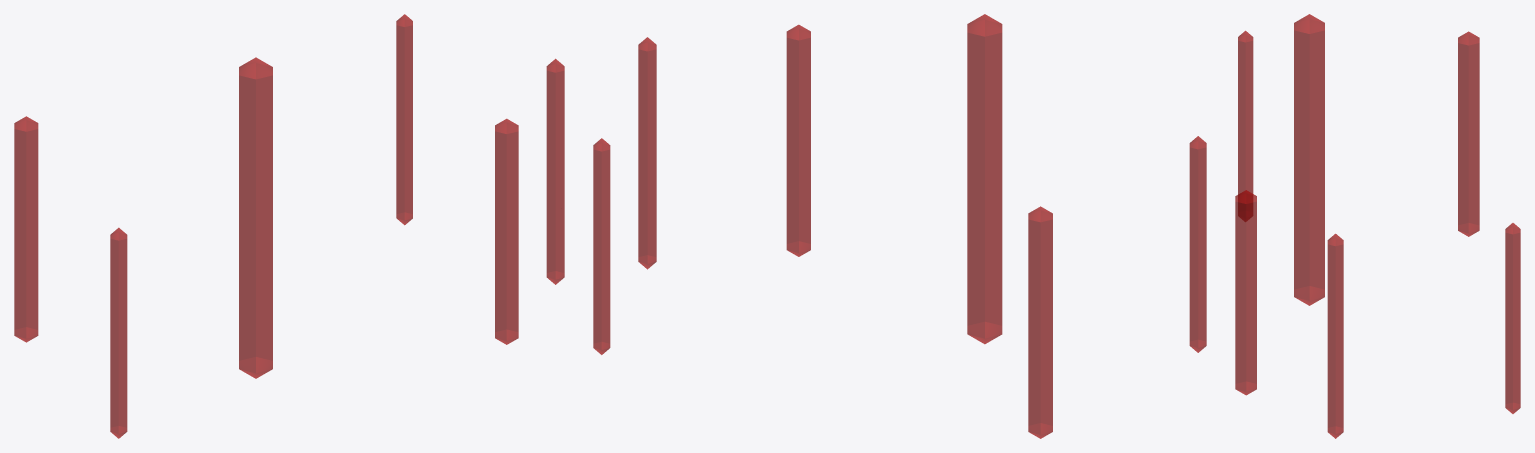
File: SM_Env_Tree_Cluster_03_Collision.fbx
3 renders of one model, left to right at view 1: azimuth 30°, elevation 25°; view 2: azimuth 150°, elevation 25°; view 3: azimuth 270°, elevation 25°, orthographic. The views are drawn at different scales.
Visible parts, largest first — view 1: SM_Env_Tree_Cluster_03_Collision; view 2: SM_Env_Tree_Cluster_03_Collision; view 3: SM_Env_Tree_Cluster_03_Collision.
Part boxes in pixels (x1=…): SM_Env_Tree_Cluster_03_Collision: x1=14, y1=14, x2=564, y2=438; SM_Env_Tree_Cluster_03_Collision: x1=593, y1=14, x2=1206, y2=438; SM_Env_Tree_Cluster_03_Collision: x1=1235, y1=14, x2=1520, y2=438.
Size of the model in its own units: 1011 by 617 by 546.
